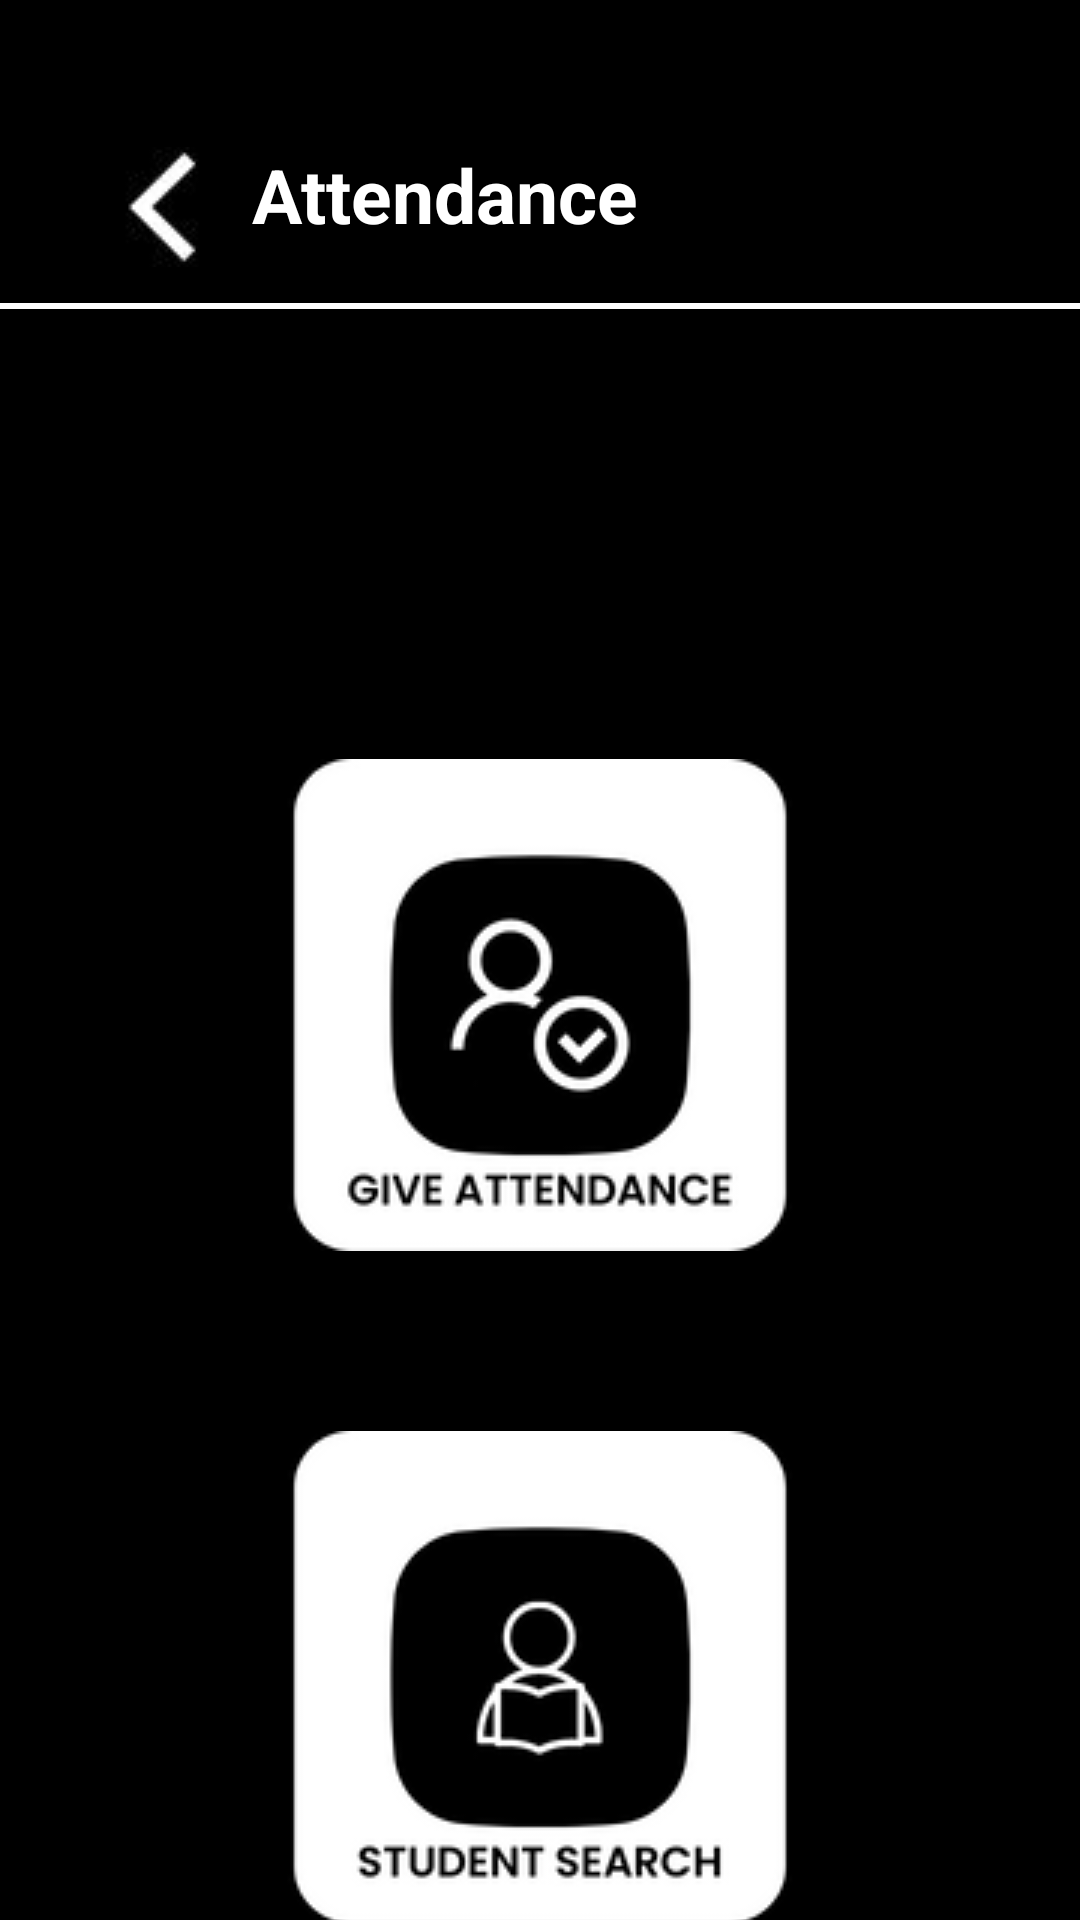

Where icons sit on this 1080×1920 app screen, as {"x1": x1, "y1": y1, "x2": x2, "y2": y2}:
back: {"x1": 128, "y1": 152, "x2": 196, "y2": 262}
